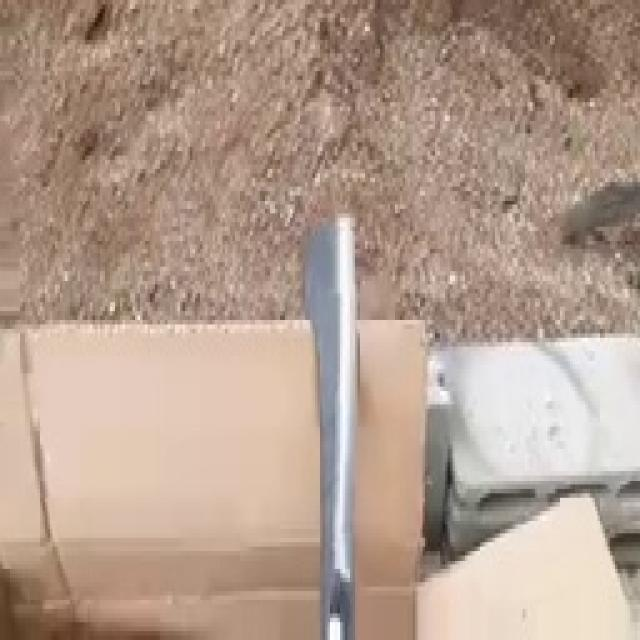eto: (307, 220, 360, 640)
